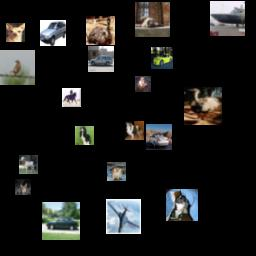airplane: (106, 199, 141, 234)
automobile: (42, 202, 80, 240), (88, 46, 114, 72), (40, 20, 66, 46), (146, 124, 172, 150), (151, 47, 173, 69)
bird: (184, 87, 222, 125), (0, 50, 35, 85), (86, 16, 115, 45)
cat: (135, 2, 170, 37), (166, 189, 198, 221), (107, 162, 126, 181), (135, 76, 151, 92), (15, 179, 31, 195)
deer: (19, 155, 38, 174)
dog: (6, 23, 25, 42), (125, 121, 144, 140), (75, 126, 94, 145)
ship: (210, 1, 245, 36)
